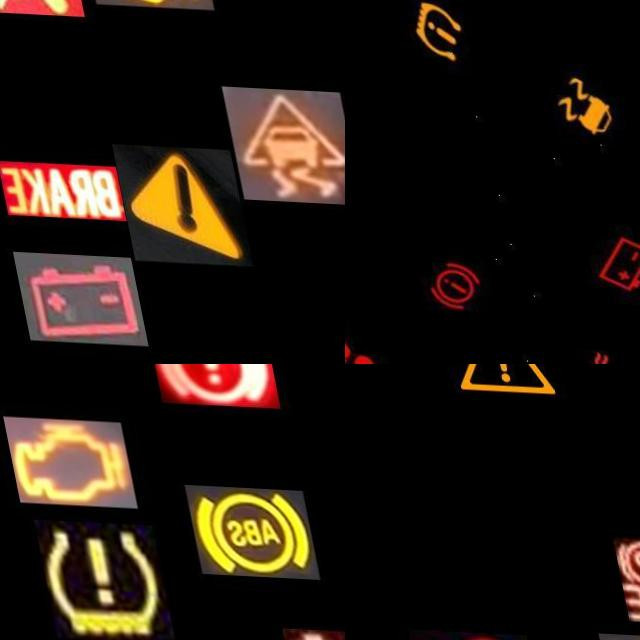Central Warning lamp: (100, 142, 237, 264), (422, 364, 558, 409)
